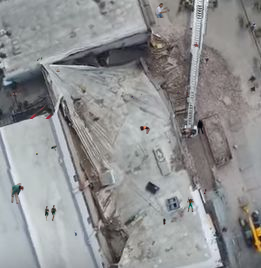Human: (29, 104, 54, 119), (10, 183, 24, 204), (40, 205, 57, 221), (155, 3, 170, 18), (163, 229, 182, 239), (197, 119, 205, 135), (187, 197, 194, 212), (177, 90, 189, 97), (140, 126, 150, 134), (131, 93, 143, 99), (192, 42, 199, 50), (34, 55, 43, 61), (50, 145, 58, 151), (205, 57, 210, 64), (163, 218, 166, 226), (74, 230, 77, 236), (204, 189, 207, 194), (10, 93, 14, 96), (56, 69, 60, 72), (119, 250, 122, 253), (128, 254, 130, 257), (36, 152, 38, 155), (148, 65, 150, 67), (25, 54, 26, 56), (54, 131, 55, 133)
